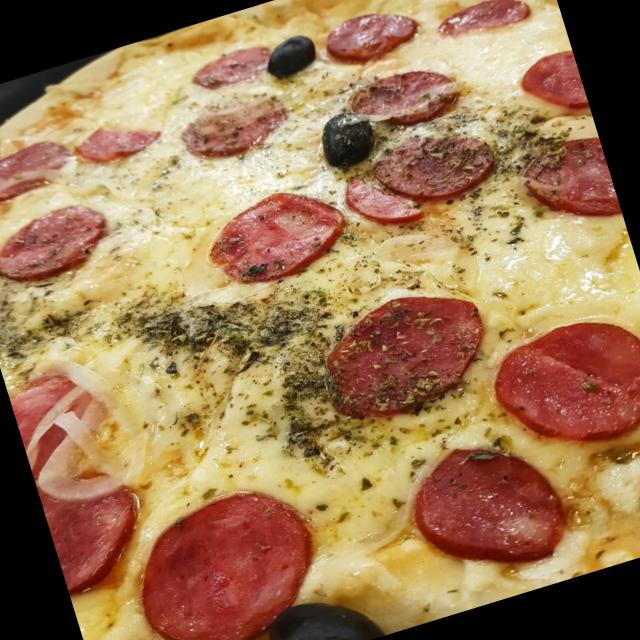black_olives: (256, 576, 388, 640), (312, 104, 381, 178), (258, 26, 322, 85)
pepperoni: (7, 359, 165, 599), (112, 476, 335, 640), (398, 421, 580, 588), (311, 276, 500, 431), (483, 302, 640, 466), (196, 172, 354, 298), (360, 111, 502, 222), (510, 123, 622, 242), (171, 77, 296, 171), (0, 194, 116, 295), (338, 156, 430, 243), (314, 0, 423, 72), (73, 108, 168, 177), (512, 41, 589, 122), (0, 131, 76, 211), (187, 36, 284, 94), (429, 0, 535, 51)
pizza: (0, 0, 640, 640)
